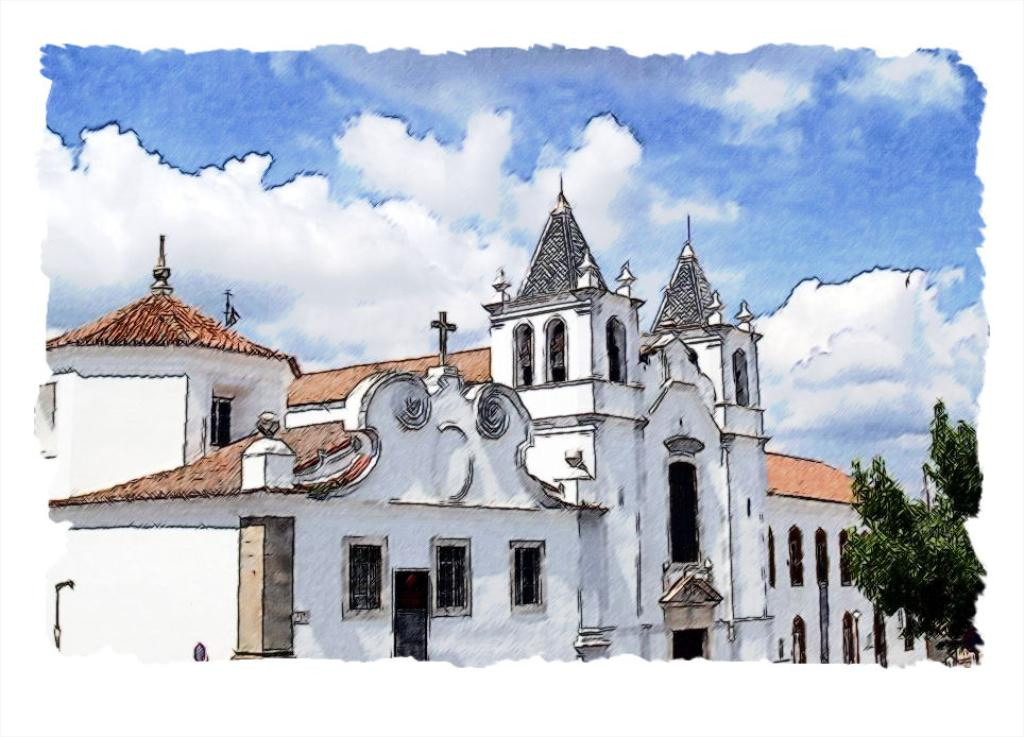Tree: (828, 402, 985, 655)
